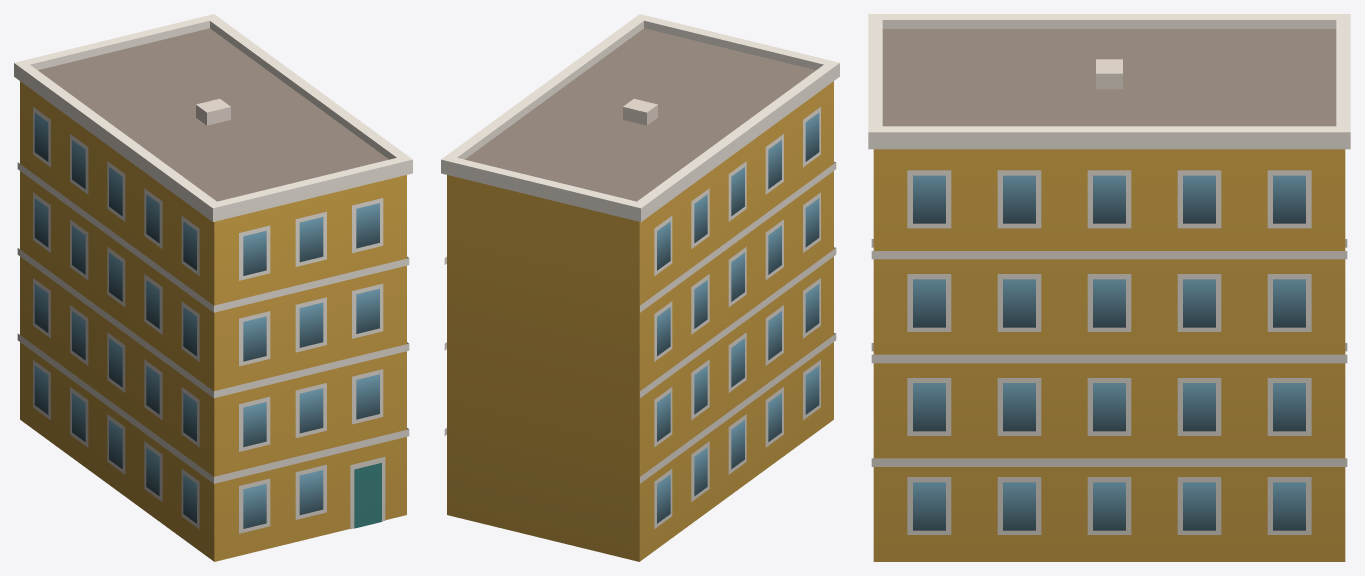
File: boylston_s21_far.glb
The picture shows the model from 3 angles, left to right: view 1: azimuth 30°, elevation 25°; view 2: azimuth 150°, elevation 25°; view 3: azimuth 270°, elevation 25°; orthographic projection. The views are drawn at different scales.
Visible parts, largest first — view 1: boylston_s21_far; view 2: boylston_s21_far; view 3: boylston_s21_far.
Part boxes in pixels (x1,y1,x2,y2): boylston_s21_far: [14, 14, 412, 561]; boylston_s21_far: [441, 14, 839, 561]; boylston_s21_far: [868, 14, 1350, 561].
Bounding box in the file's own units: 8.32 × 14.37 × 14.32.
1 material, 1 textured.
